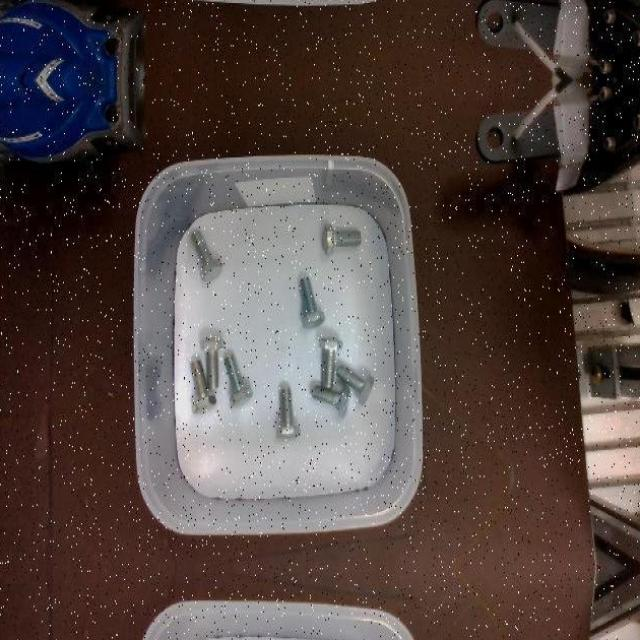screw: (191, 228, 223, 282), (224, 352, 254, 407), (336, 364, 374, 406), (275, 386, 302, 441), (190, 360, 216, 414), (299, 276, 325, 328), (311, 384, 350, 418), (200, 336, 225, 389), (322, 223, 361, 254), (319, 336, 342, 388)
